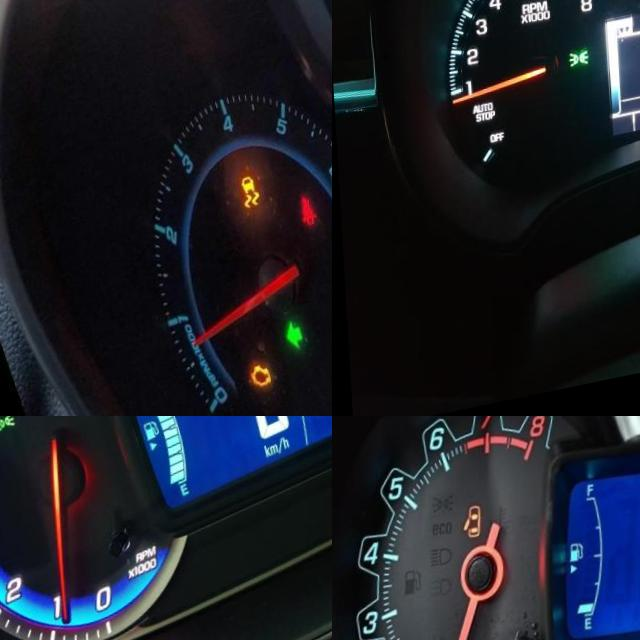Doors: (456, 508, 478, 547)
SideLamp: (563, 58, 584, 78), (0, 416, 10, 436)
